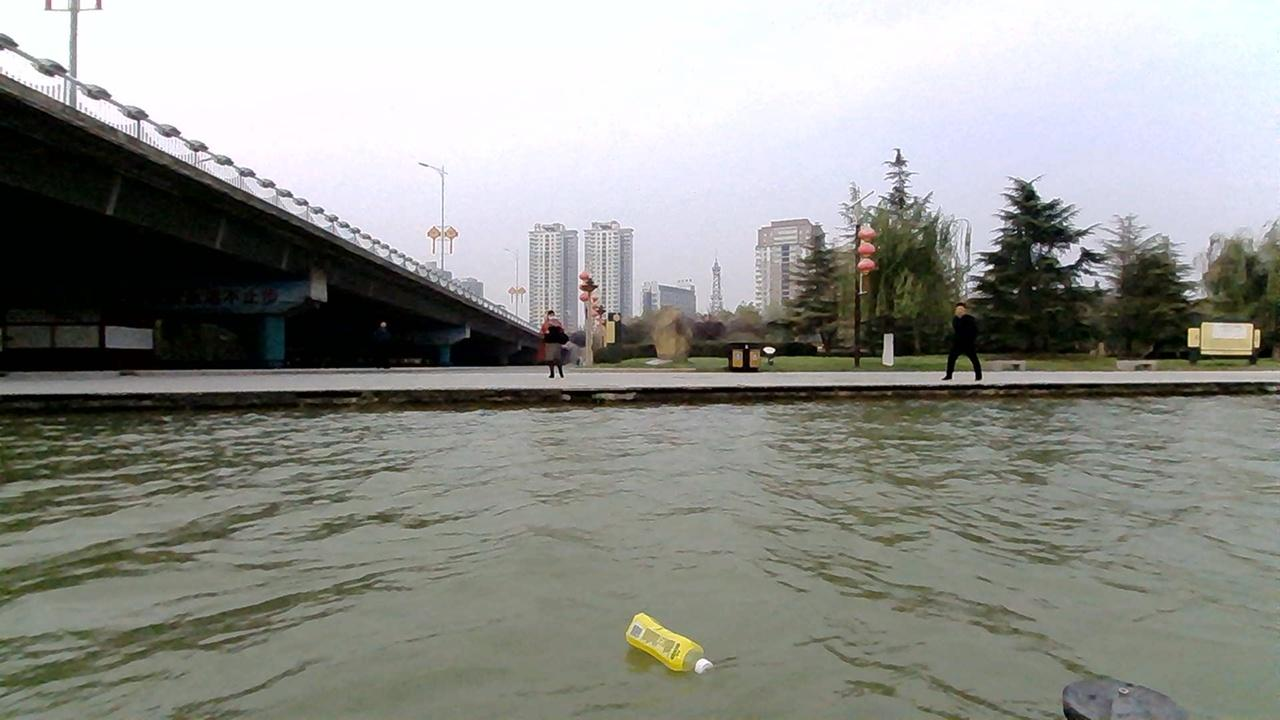bottle: (622, 613, 712, 672)
